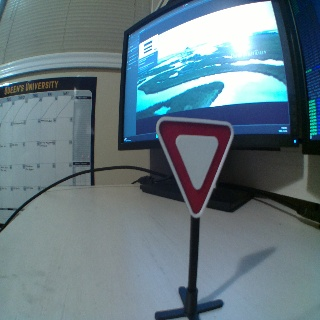sign_yield: (153, 117, 233, 222)
